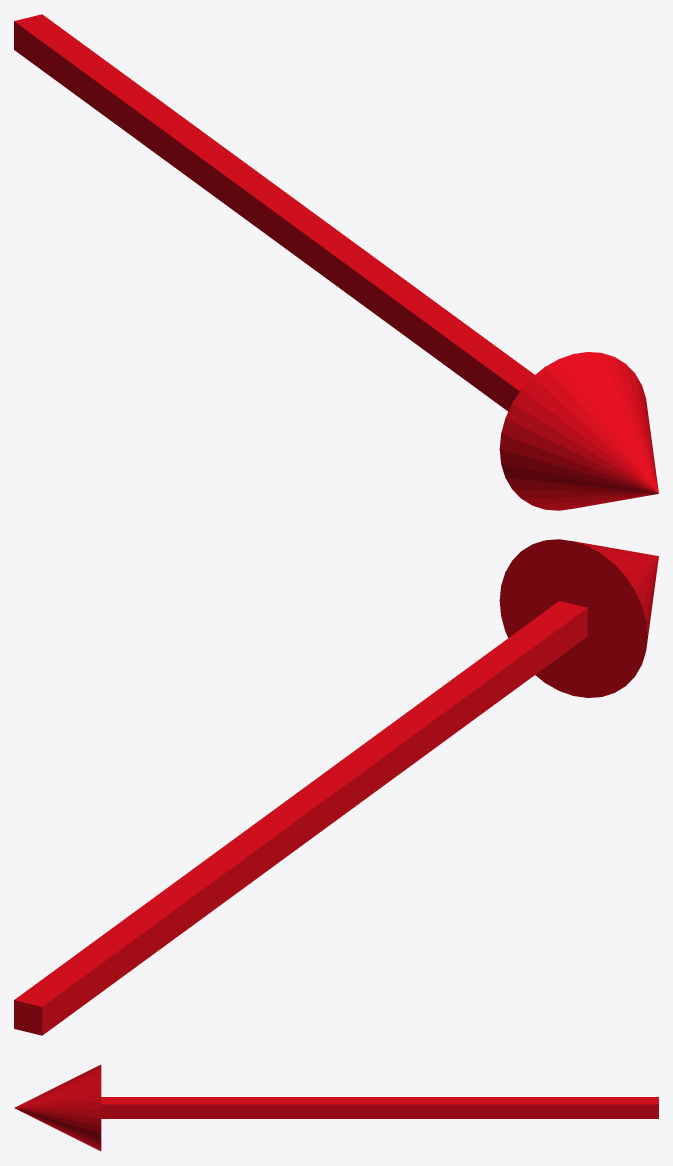
The model's file is arrow 1.fbx.
3 views of the same model, one above another, from view 1: azimuth 30°, elevation 25°; view 2: azimuth 150°, elevation 25°; view 3: azimuth 270°, elevation 25° (orthographic). The views are drawn at different scales.
Parts seen in each view (by area): view 1: Cone; view 2: Cone; view 3: Cone.
Boxes of the visible parts, <box> form: Cone: <box>14,14,658,510</box>; Cone: <box>14,539,658,1035</box>; Cone: <box>14,1064,658,1151</box>.
Bounding box in the file's own units: 160 × 160 × 1181.
